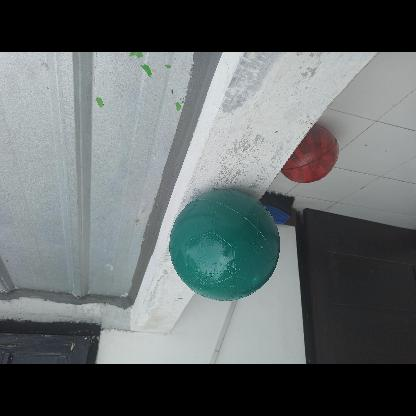green_ball: (170, 190, 280, 300)
